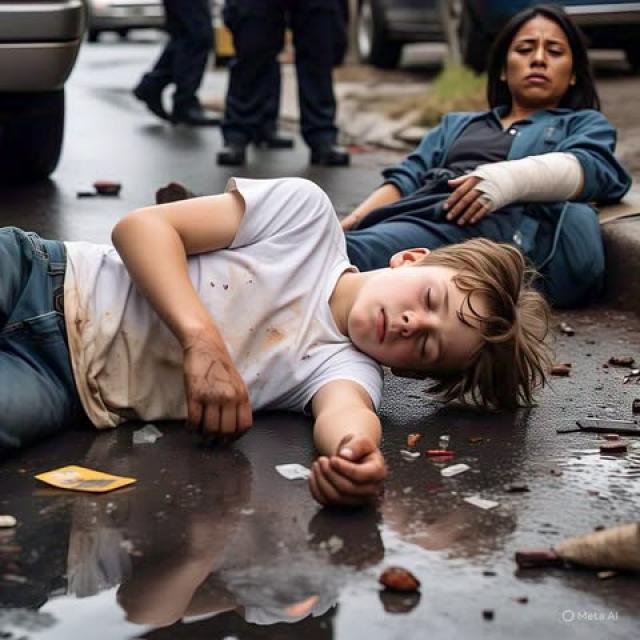injury: (333, 239, 552, 408), (487, 3, 600, 108), (469, 152, 583, 211)
no injury: (0, 179, 485, 503)
